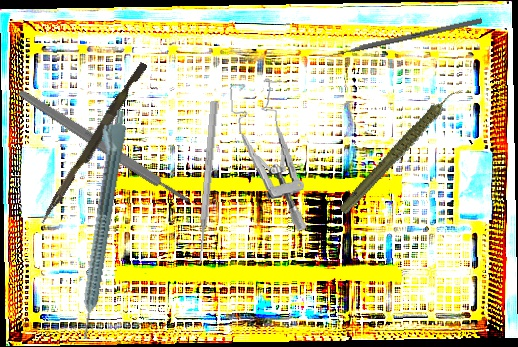Handpiece: (319, 86, 484, 217), (67, 107, 130, 341)
Pusher: (39, 59, 148, 228), (318, 17, 483, 61), (194, 100, 220, 265)
Scalpel Handle: (15, 86, 193, 208)
Speculum: (228, 74, 309, 238)
